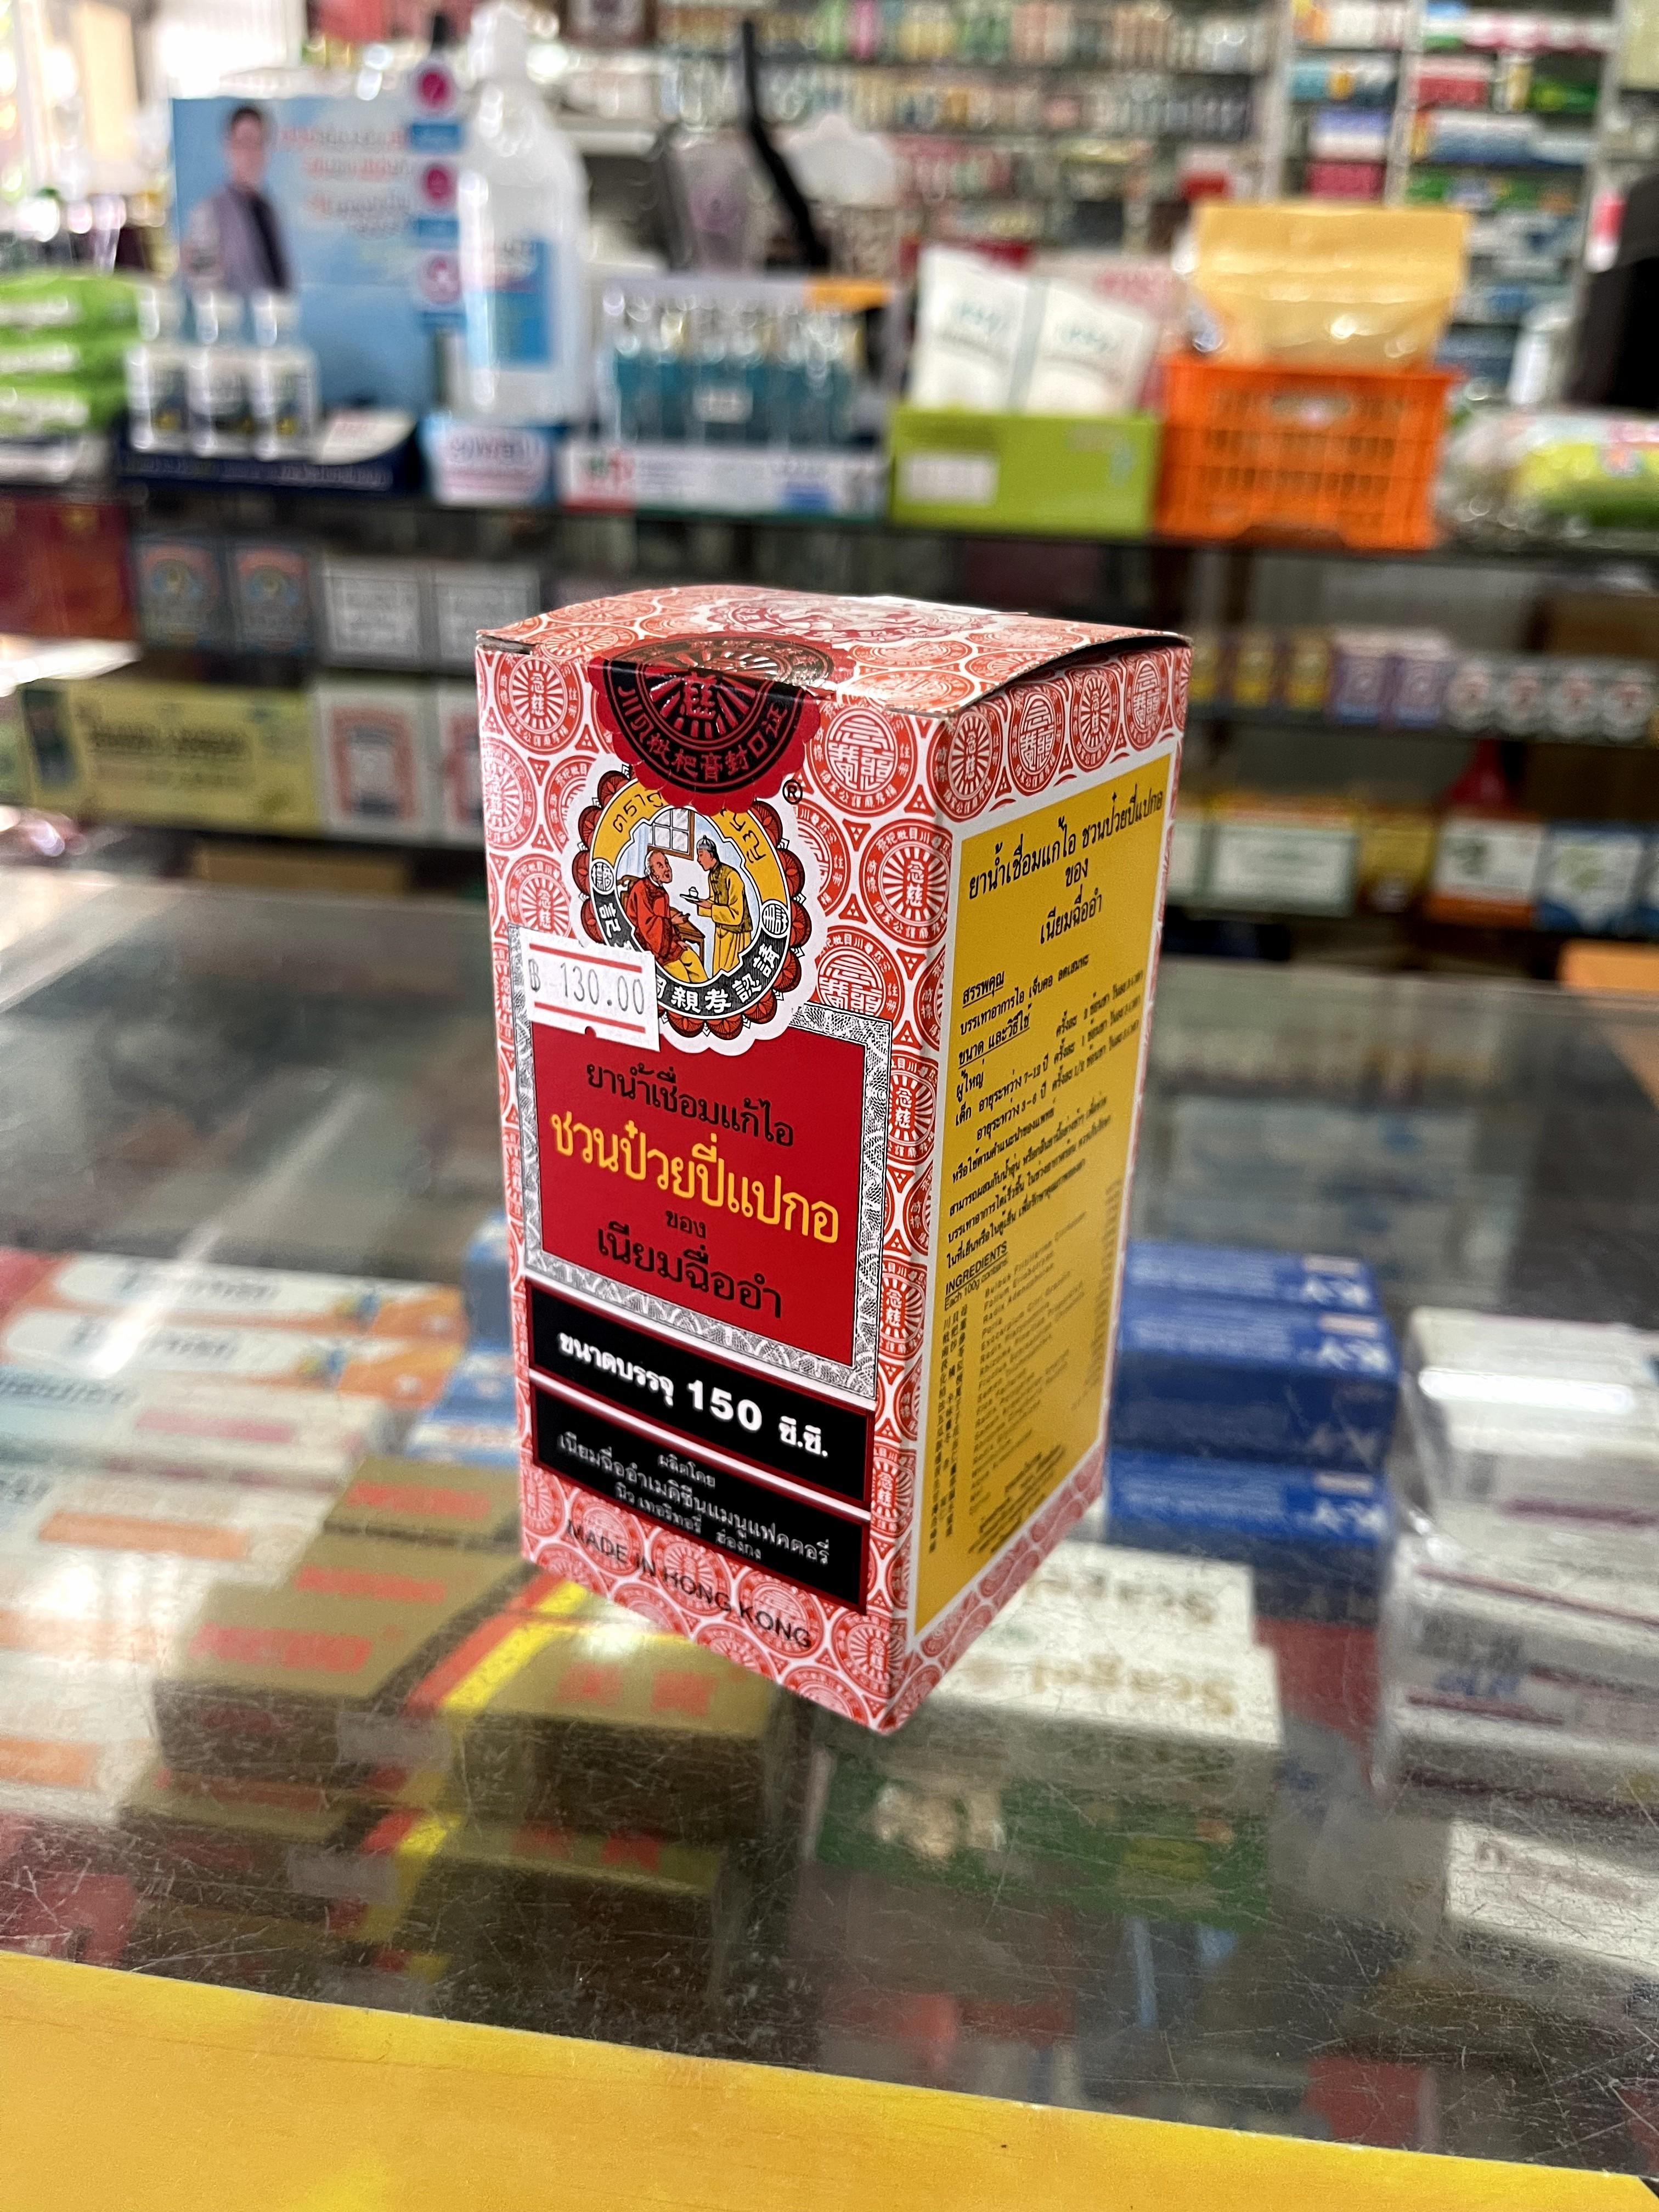Pei-Pa-Koa_Big: (479, 582, 1199, 1707)
